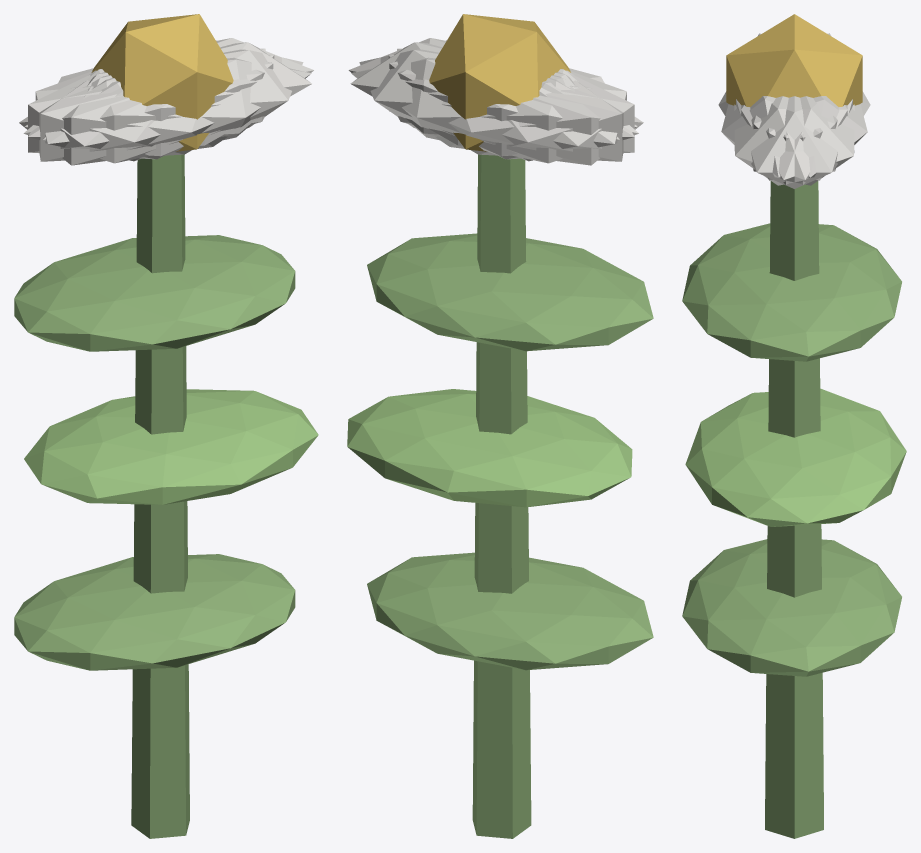
Rendered from lucuma-campechiana.glb.
3 renders of one model, left to right at view 1: azimuth 30°, elevation 25°; view 2: azimuth 150°, elevation 25°; view 3: azimuth 270°, elevation 25°, orthographic.
Parts seen in each view (by area): view 1: stem, leaf2, leaf1, leaf0, center, petal1, petal6, petal2, petal5, petal7, petal0, petal4 (+2 smaller); view 2: stem, leaf1, leaf2, leaf0, center, petal8, petal3, petal7, petal4, petal2, petal0, petal5 (+2 smaller); view 3: stem, leaf1, leaf2, leaf0, center, petal0, petal5, petal4, petal8, petal1.
Part boxes in pixels (x1,y1,x2,y2): stem: [131, 154, 189, 838]; leaf2: [14, 235, 295, 351]; leaf1: [24, 389, 318, 504]; leaf0: [14, 554, 295, 670]; center: [91, 14, 233, 151]; petal1: [23, 57, 311, 163]; petal6: [19, 70, 227, 165]; petal2: [39, 48, 265, 161]; petal5: [43, 49, 303, 156]; petal7: [28, 54, 274, 159]; petal0: [91, 42, 311, 145]; petal4: [25, 38, 313, 137]; stem: [472, 154, 531, 838]; leaf1: [347, 389, 632, 507]; leaf2: [367, 233, 653, 351]; leaf0: [367, 552, 653, 670]; center: [429, 14, 570, 151]; petal8: [351, 57, 638, 163]; petal3: [435, 70, 643, 165]; petal7: [397, 48, 623, 161]; petal4: [359, 49, 619, 156]; petal2: [388, 54, 634, 159]; petal0: [350, 42, 571, 145]; petal5: [348, 38, 637, 137]; stem: [765, 181, 823, 838]; leaf1: [685, 388, 906, 526]; leaf2: [682, 223, 901, 361]; leaf0: [682, 539, 901, 676]; center: [726, 14, 862, 106]; petal0: [736, 96, 852, 188]; petal5: [734, 96, 847, 185]; petal4: [741, 96, 854, 185]; petal8: [751, 96, 867, 177]; petal1: [721, 96, 837, 177].
Size of the model in its own units: 0.1488 by 0.3936 by 0.1009.
